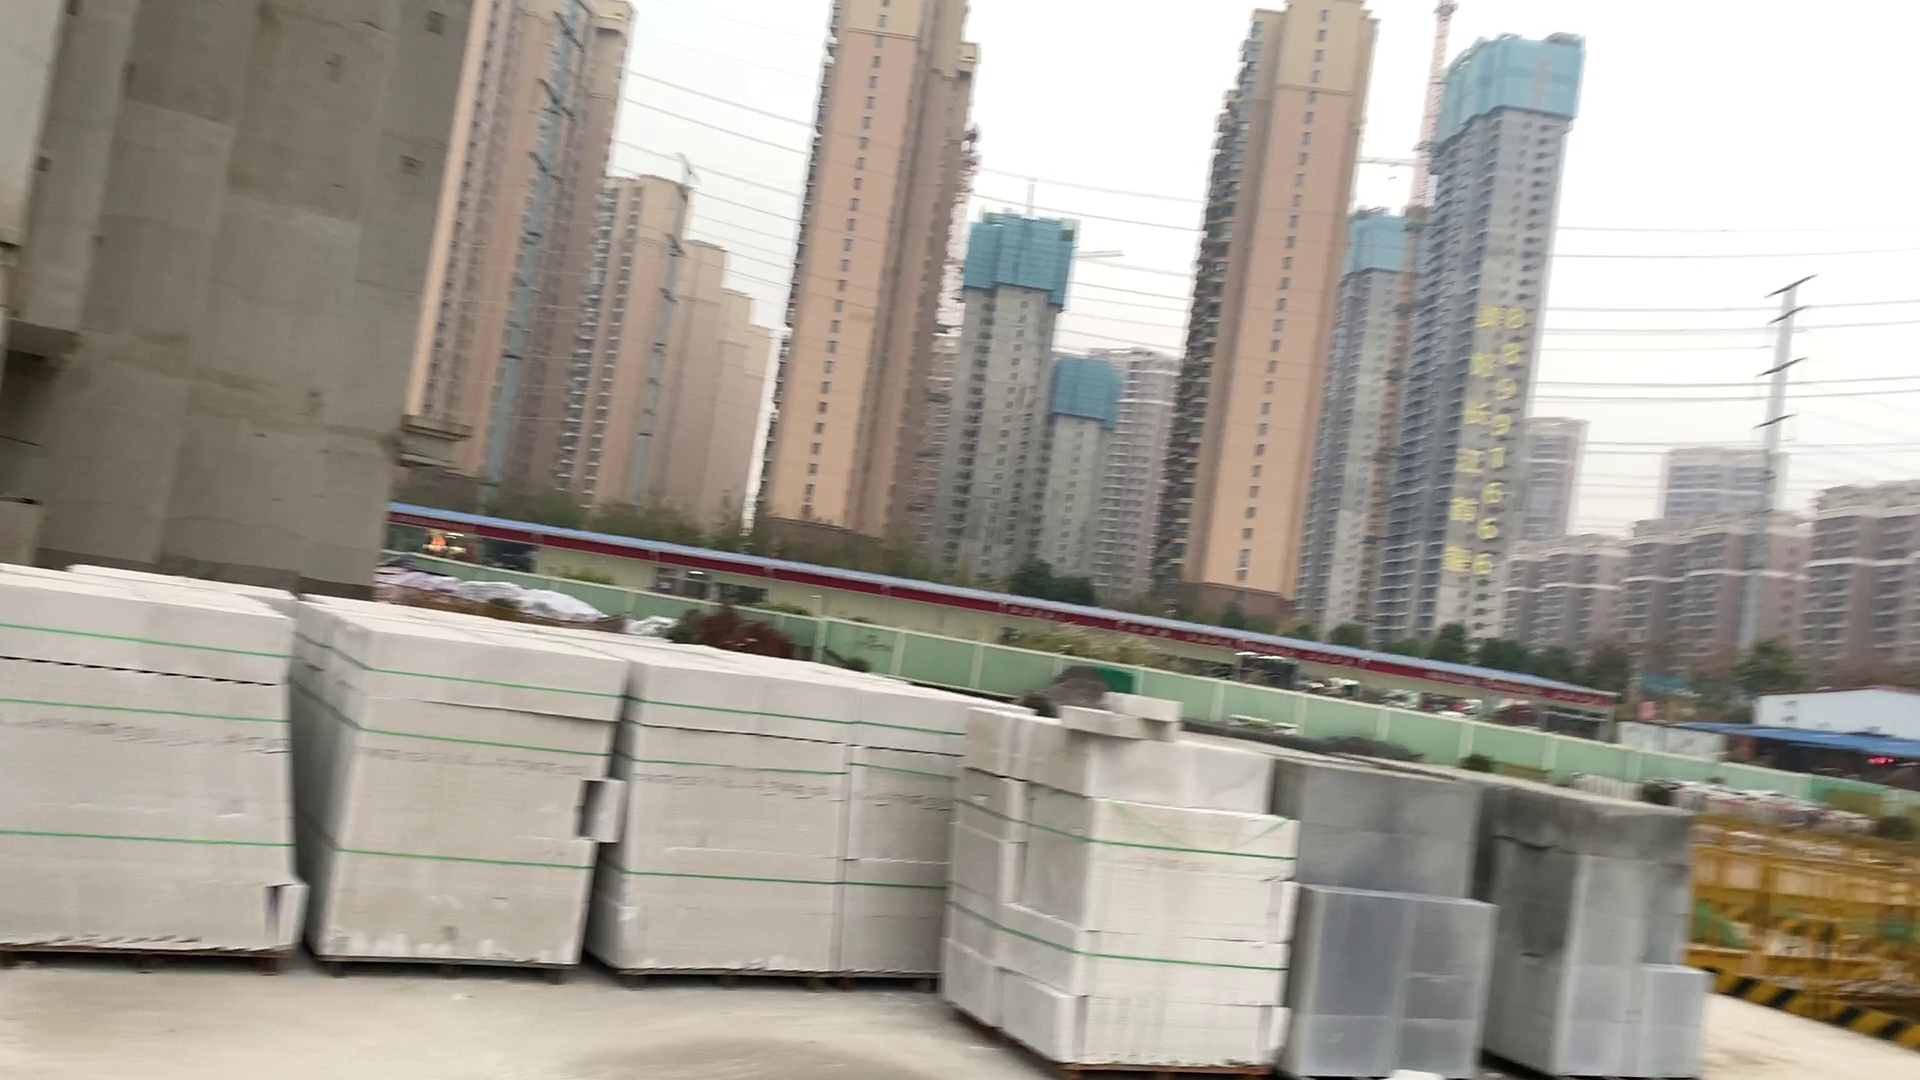brickwork: (3, 575, 309, 975), (957, 719, 1287, 1080), (323, 616, 620, 968), (622, 669, 849, 985), (1288, 756, 1501, 1080), (1518, 799, 1717, 1080), (852, 688, 949, 988)
